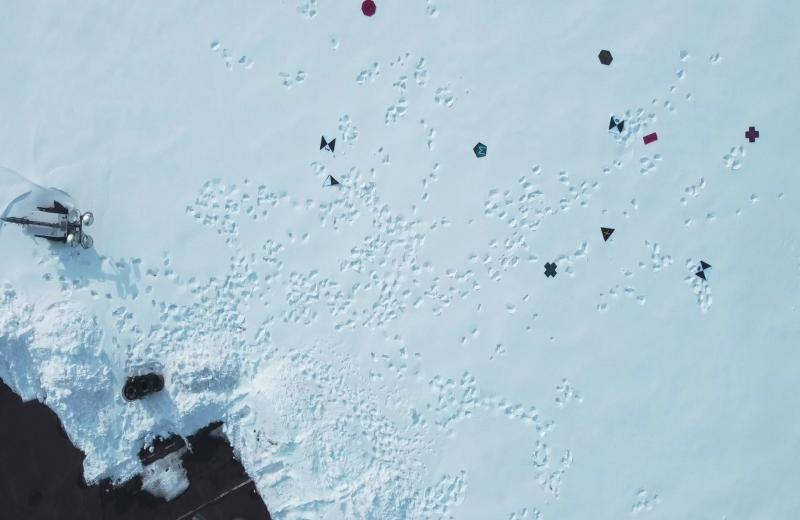Cross: (744, 125, 760, 143), (543, 262, 559, 280)
Hexagon: (598, 48, 614, 66)
Octagon: (360, 0, 377, 20)
Pentagon: (471, 140, 488, 161)
Rectangle: (642, 131, 659, 145)
Triangle: (600, 224, 616, 245)
